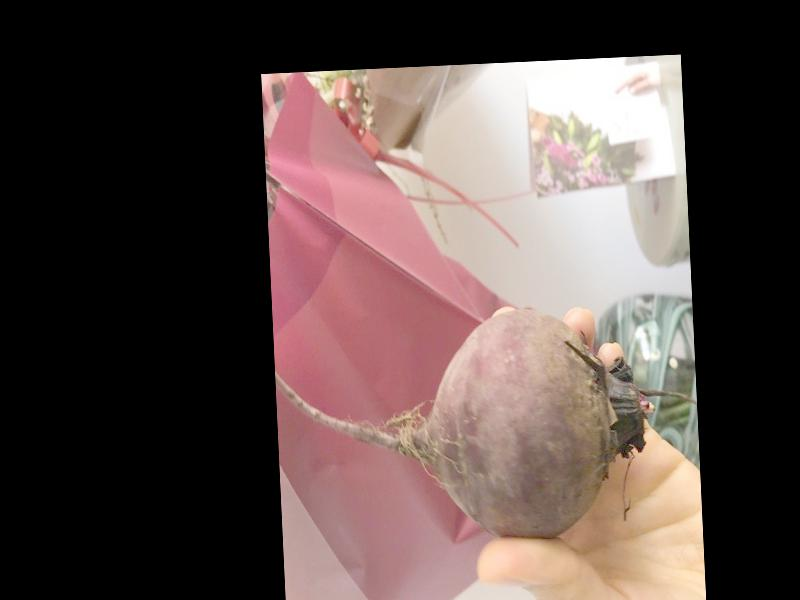Beet: (274, 300, 700, 550)
